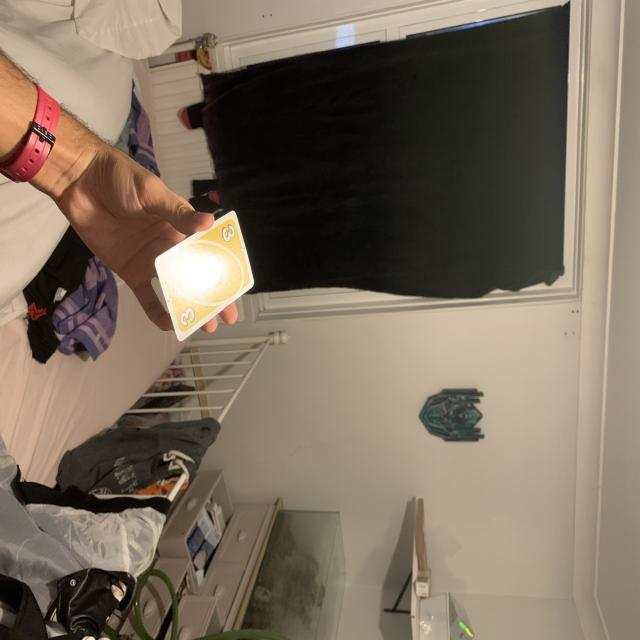lyellow-3: (220, 220, 238, 244)
